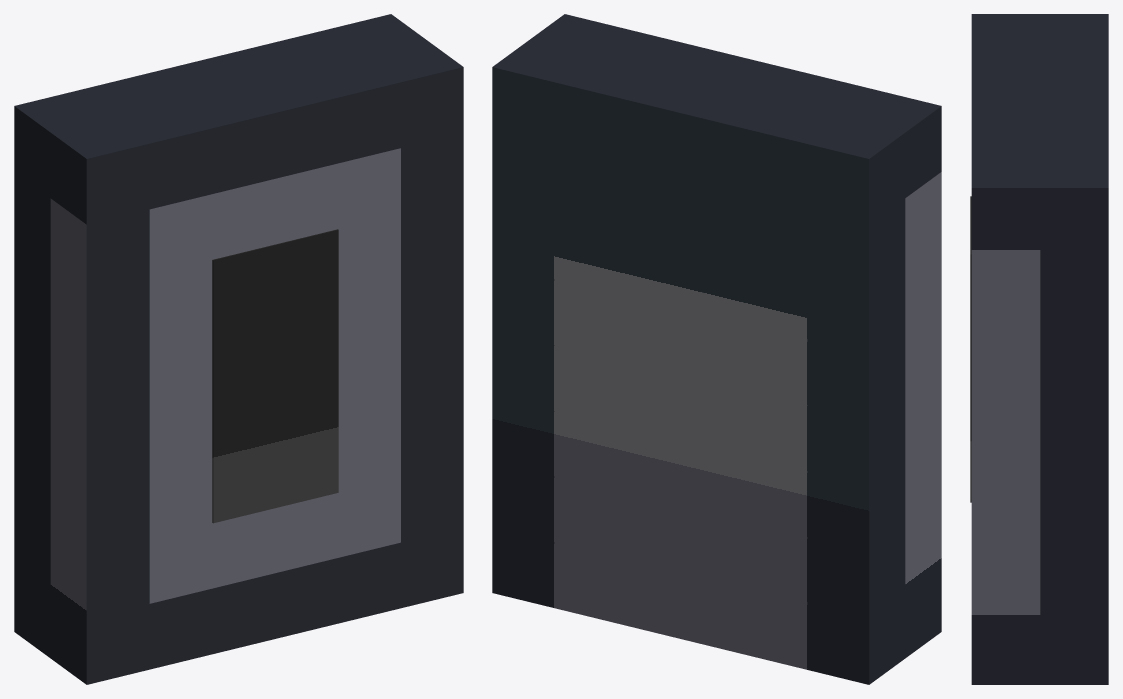
The model's file is light_switch_nopower.glb.
3 renders of one model, left to right at view 1: azimuth 30°, elevation 25°; view 2: azimuth 150°, elevation 25°; view 3: azimuth 270°, elevation 25°, orthographic. The views are drawn at different scales.
Visible parts, largest first — view 1: Continuous_Housing, Rocker; view 2: Continuous_Housing; view 3: Continuous_Housing, Rocker.
Part boxes in pixels (x1,y1,x2,y2): Continuous_Housing: (14, 14, 463, 684); Rocker: (212, 229, 338, 523); Continuous_Housing: (492, 14, 941, 684); Continuous_Housing: (971, 14, 1108, 684); Rocker: (970, 196, 971, 502).
Bounding box in the file's own units: 0.1688 × 0.225 × 0.0568.
Materials: 1 (1 with a texture image).
